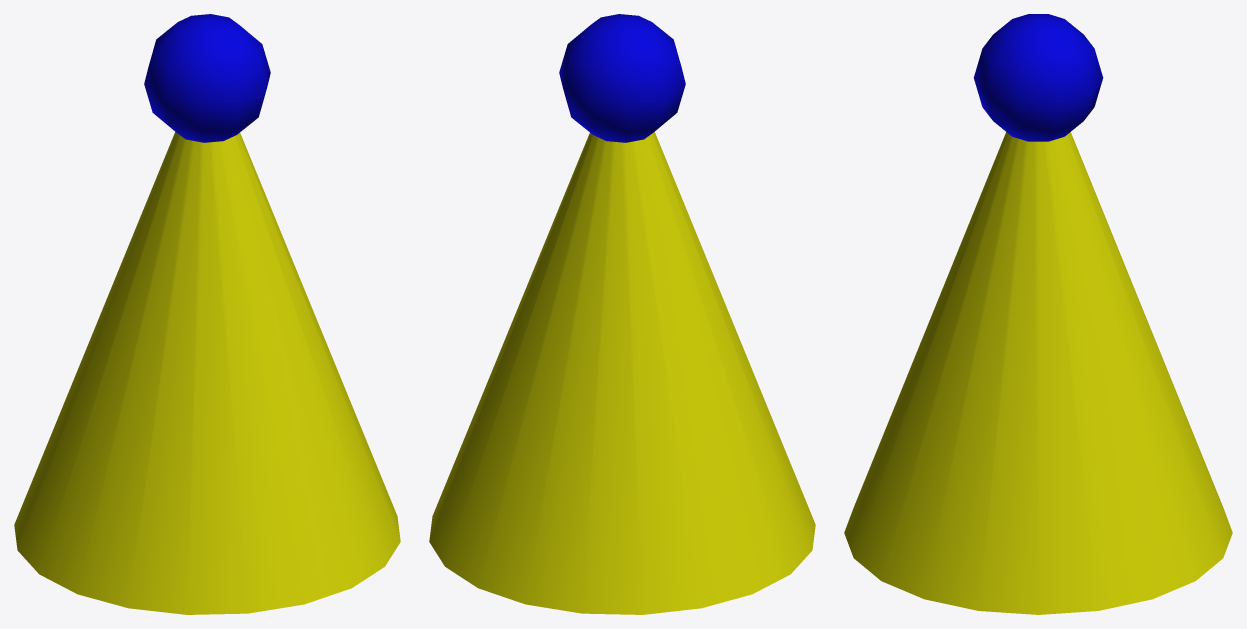
Rendered from Hat5.fbx.
3 views of the same model, side by side, from view 1: azimuth 30°, elevation 25°; view 2: azimuth 150°, elevation 25°; view 3: azimuth 270°, elevation 25° (orthographic).
Parts seen in each view (by area): view 1: Hat5; view 2: Hat5; view 3: Hat5.
Part boxes in pixels (x1,y1,x2,y2): Hat5: (14,14,400,614); Hat5: (429,14,815,614); Hat5: (844,14,1232,614).
Bounding box in the file's own units: 0.24 × 0.35 × 0.24.
